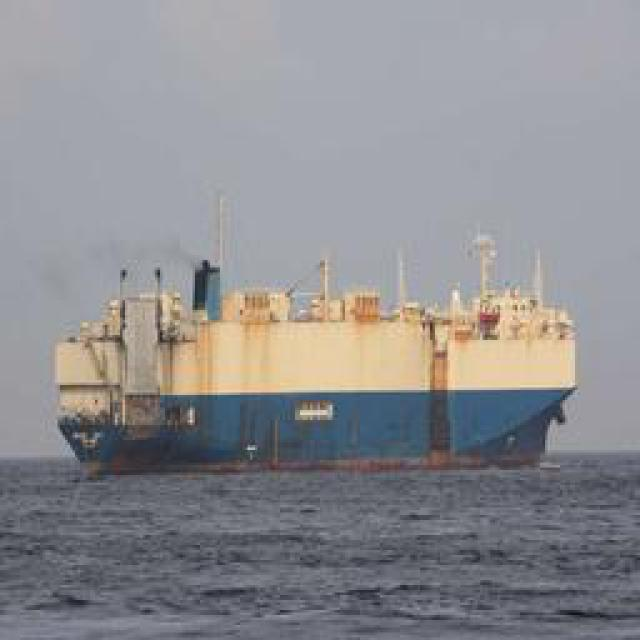Ship: (57, 260, 585, 475)
